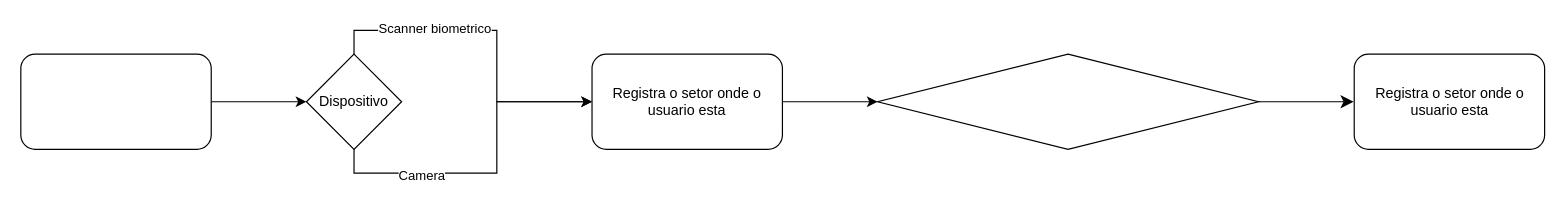
The diagram is 1566 pixels wide and 203 high, and some of its shapes have lost their labels. Each missing label, with the centre of its shape:
Controle de permanencia: pixel 115 101
Setor está vinculado a uma rotina na regra "Transição de setores"?: pixel 1067 101
